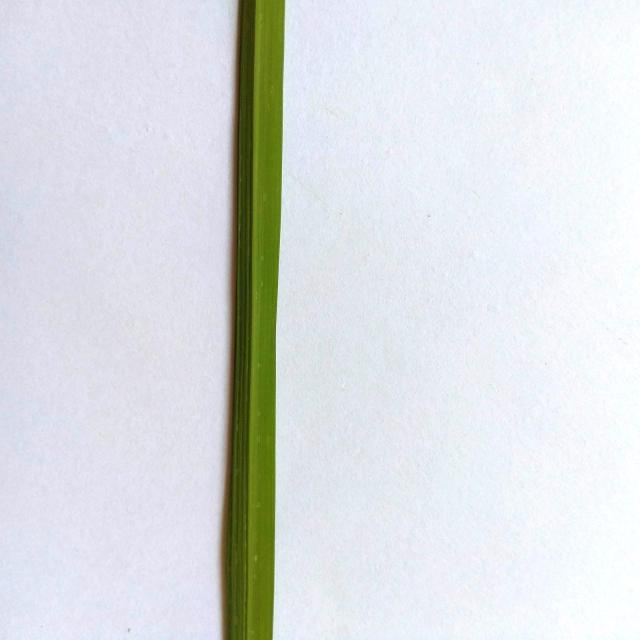healthy: (214, 0, 301, 640)
